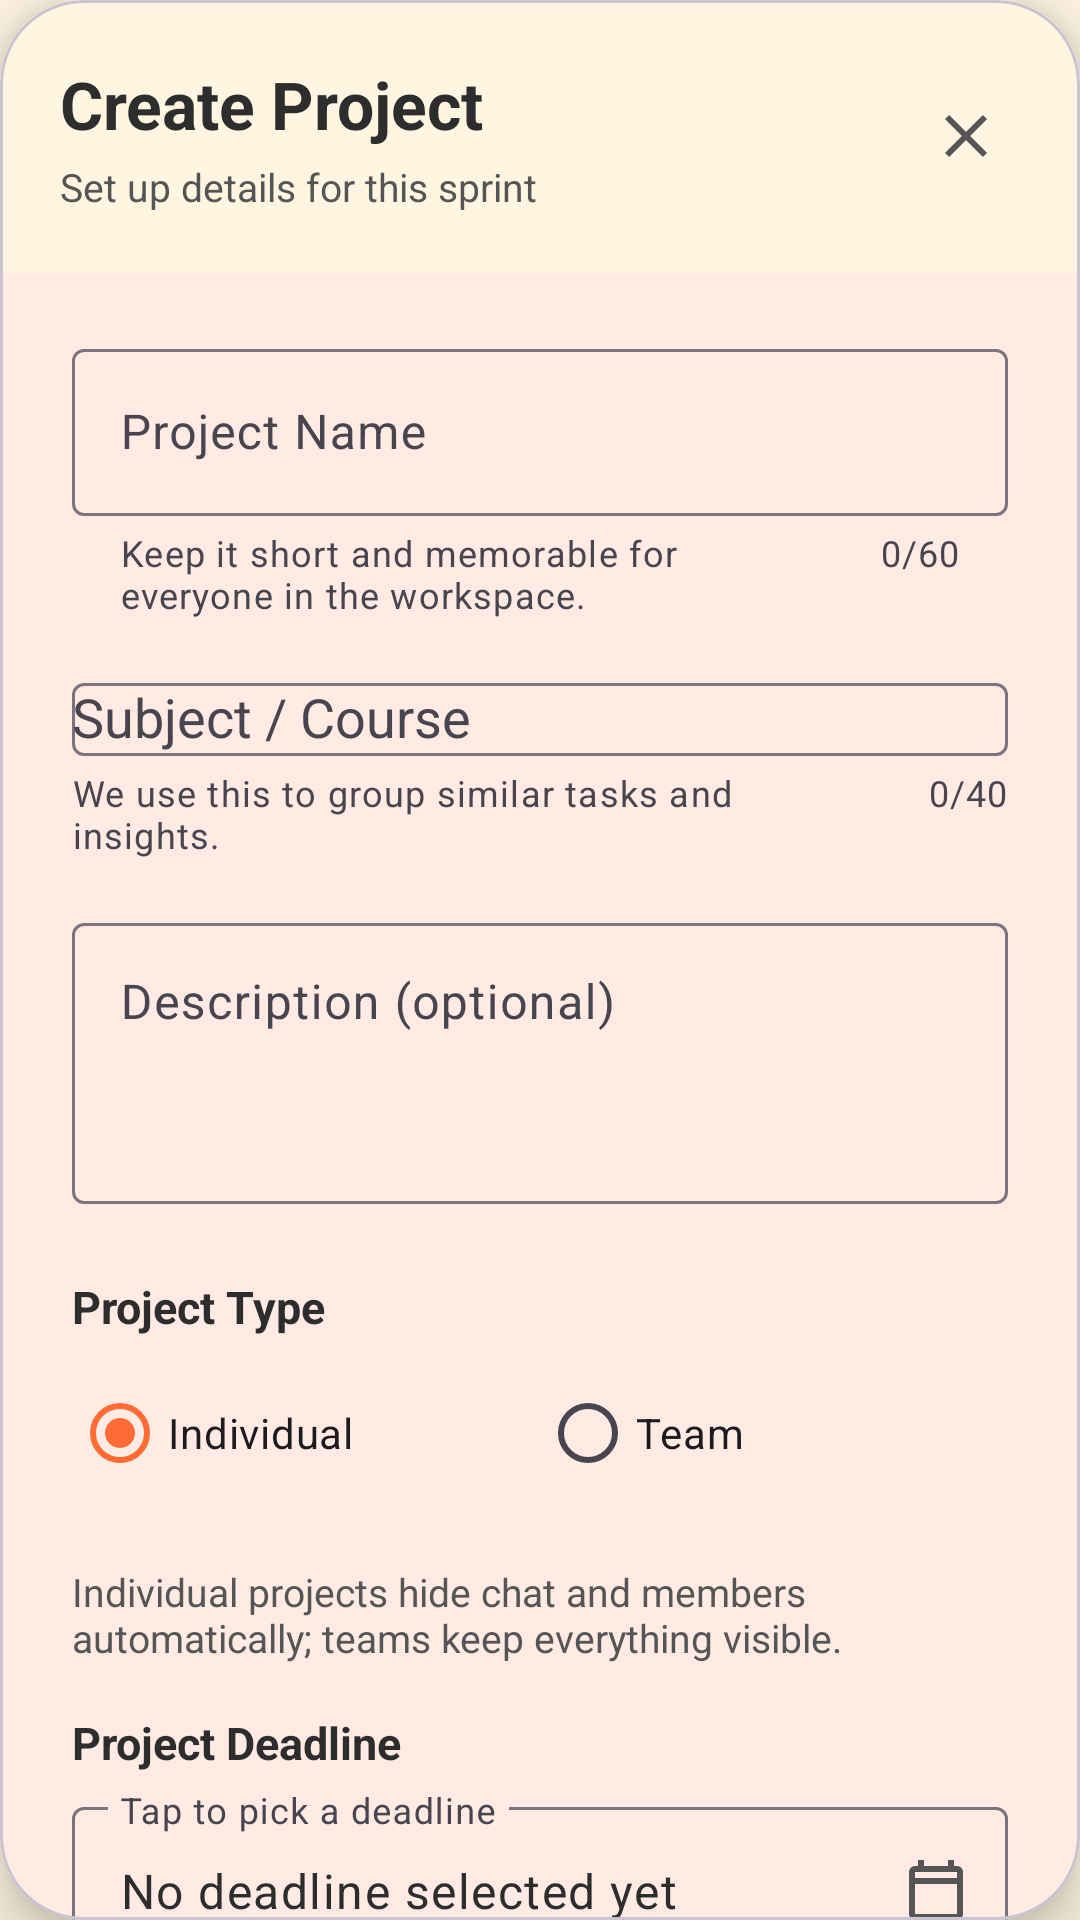

Icons on this 1080px x 1920px Android screen, each with the point to tap as [x,y]:
Close: [966,136]
